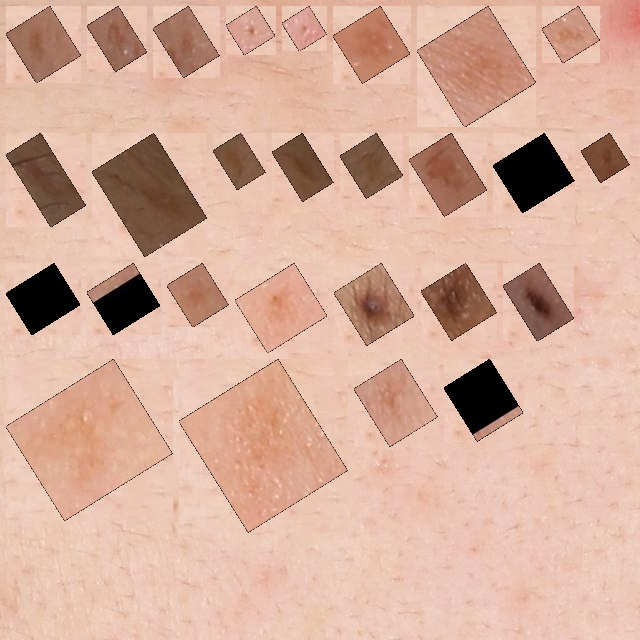melasma: (190, 370, 337, 521), (17, 370, 161, 509), (428, 17, 525, 116), (103, 144, 196, 245), (246, 274, 316, 342), (17, 144, 75, 216), (365, 370, 427, 435), (504, 144, 563, 202), (455, 370, 512, 430), (420, 144, 476, 205), (344, 17, 399, 72), (17, 17, 70, 72), (17, 274, 69, 324), (98, 274, 149, 324), (164, 17, 208, 66), (283, 144, 322, 190), (351, 144, 392, 187), (178, 274, 218, 316), (98, 17, 136, 60), (553, 17, 589, 52), (224, 144, 254, 178), (237, 17, 264, 44), (592, 144, 618, 171), (293, 17, 316, 40)
nevus: (345, 274, 403, 334), (432, 274, 486, 329), (514, 274, 563, 330)
